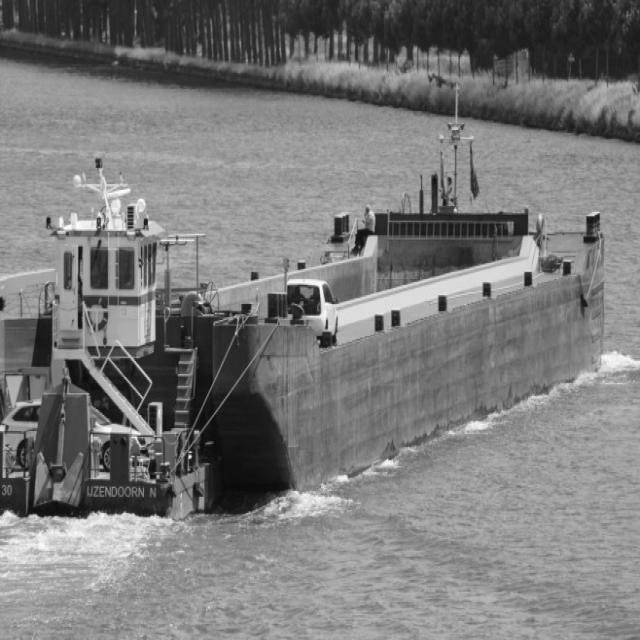tugboat: (1, 156, 223, 540)
